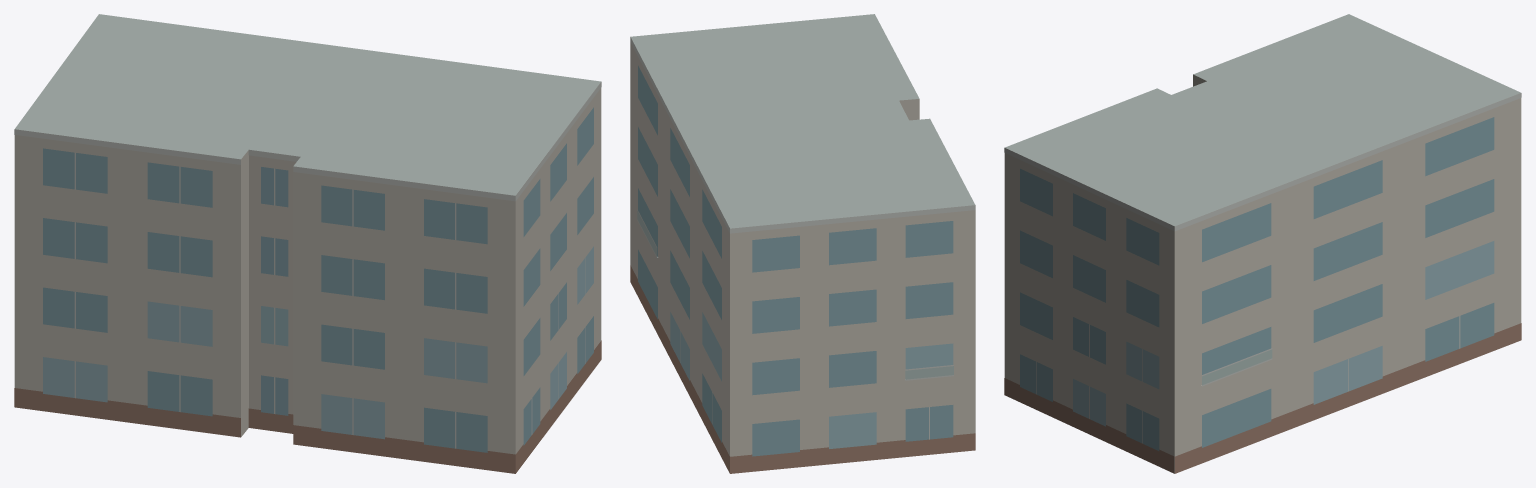
File: survey-upis-32921037.glb
3 views of the same model, side by side, from view 1: azimuth 30°, elevation 25°; view 2: azimuth 150°, elevation 25°; view 3: azimuth 270°, elevation 25° (orthographic). The views are drawn at different scales.
Parts seen in each view (by area): view 1: survey-upis-32921037.tmp; view 2: survey-upis-32921037.tmp; view 3: survey-upis-32921037.tmp.
Part boxes in pixels (x1,y1,x2,y2): survey-upis-32921037.tmp: [14, 14, 601, 473]; survey-upis-32921037.tmp: [630, 14, 975, 473]; survey-upis-32921037.tmp: [1004, 14, 1521, 473].
Size of the model in its own units: 22.09 by 12 by 22.72.
